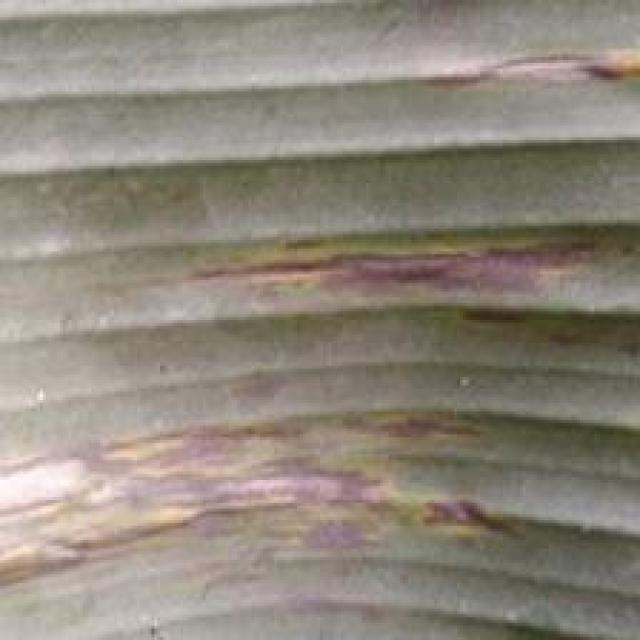Early_leaf_spot: (0, 385, 590, 640), (165, 202, 640, 377), (394, 23, 640, 116)
